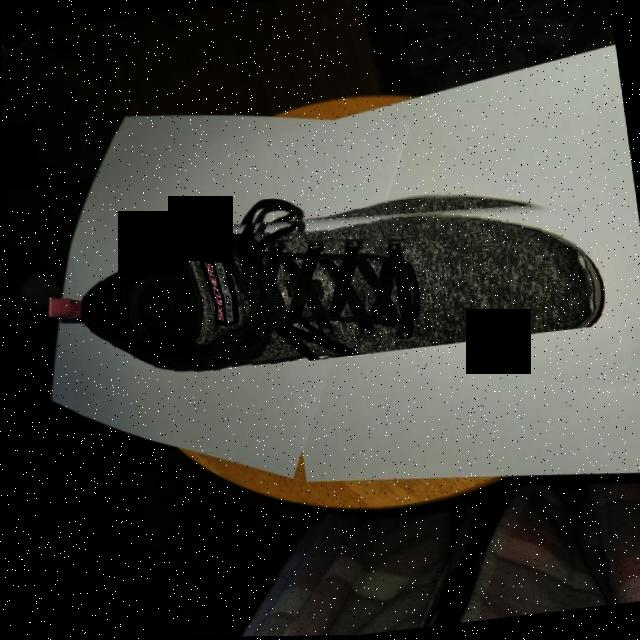shoe: (62, 176, 608, 388)
